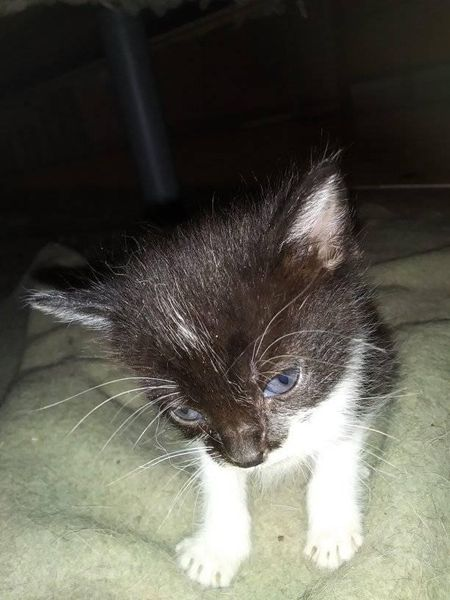cat: (32, 146, 415, 590)
